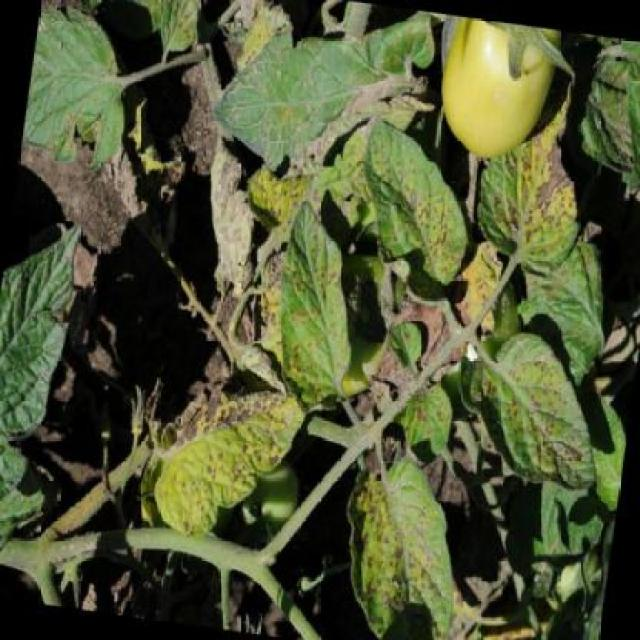Septoria leaf spot: (146, 365, 312, 559), (475, 83, 610, 310), (327, 452, 484, 639), (261, 199, 384, 423), (470, 330, 621, 501), (363, 133, 457, 301)
